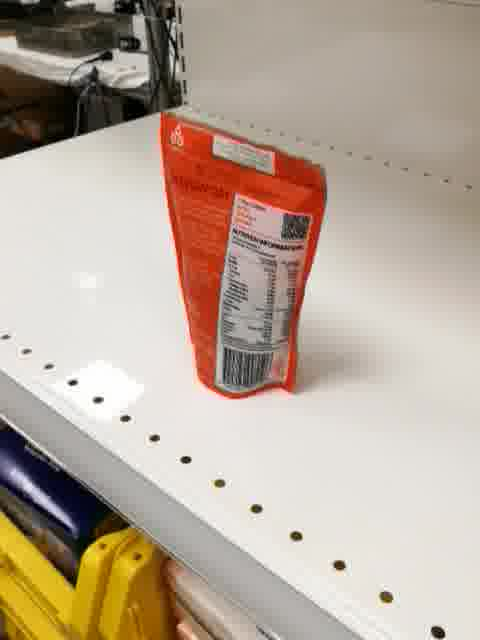whitechia: (154, 110, 330, 403)
